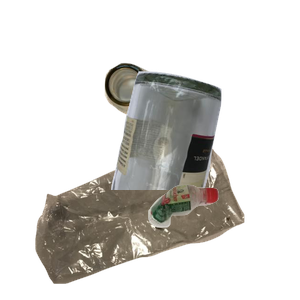glass: (109, 69, 300, 249)
metal: (102, 60, 252, 169)
plastic: (146, 182, 300, 300)
trash: (33, 145, 270, 300)
